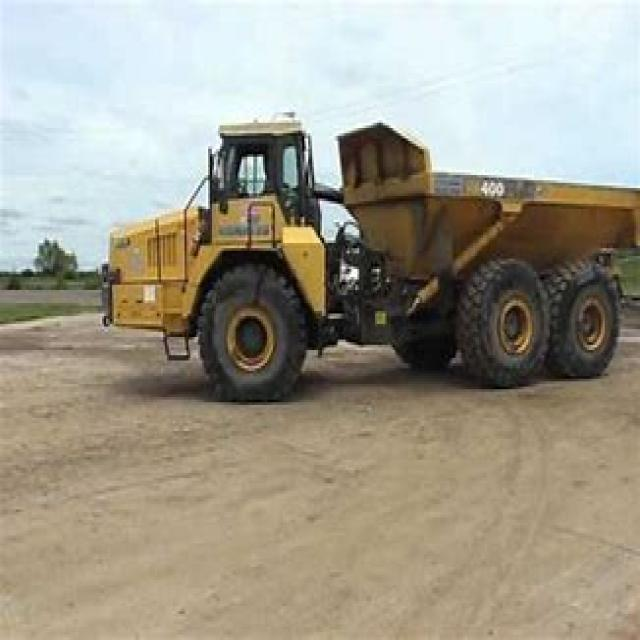dump_truck: (92, 81, 638, 421)
